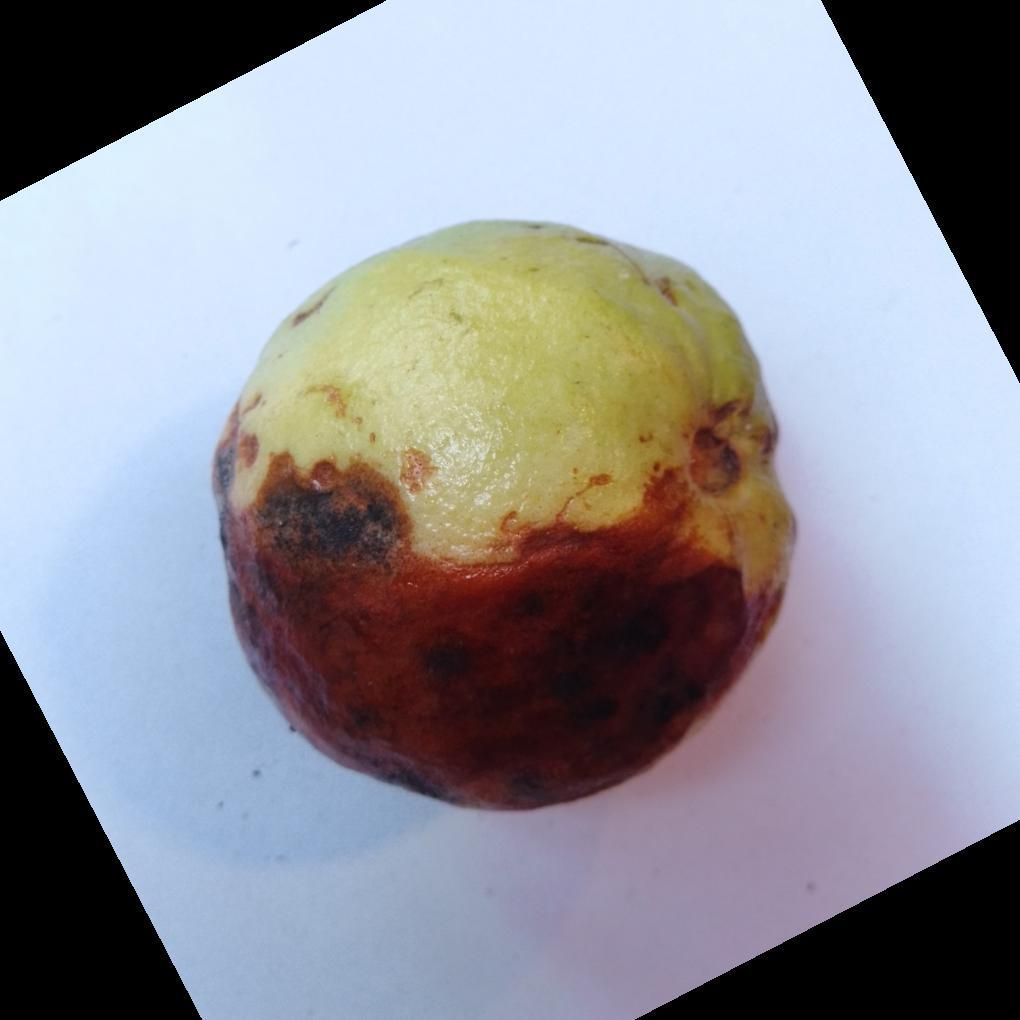FreshOrange: (209, 221, 799, 817)
